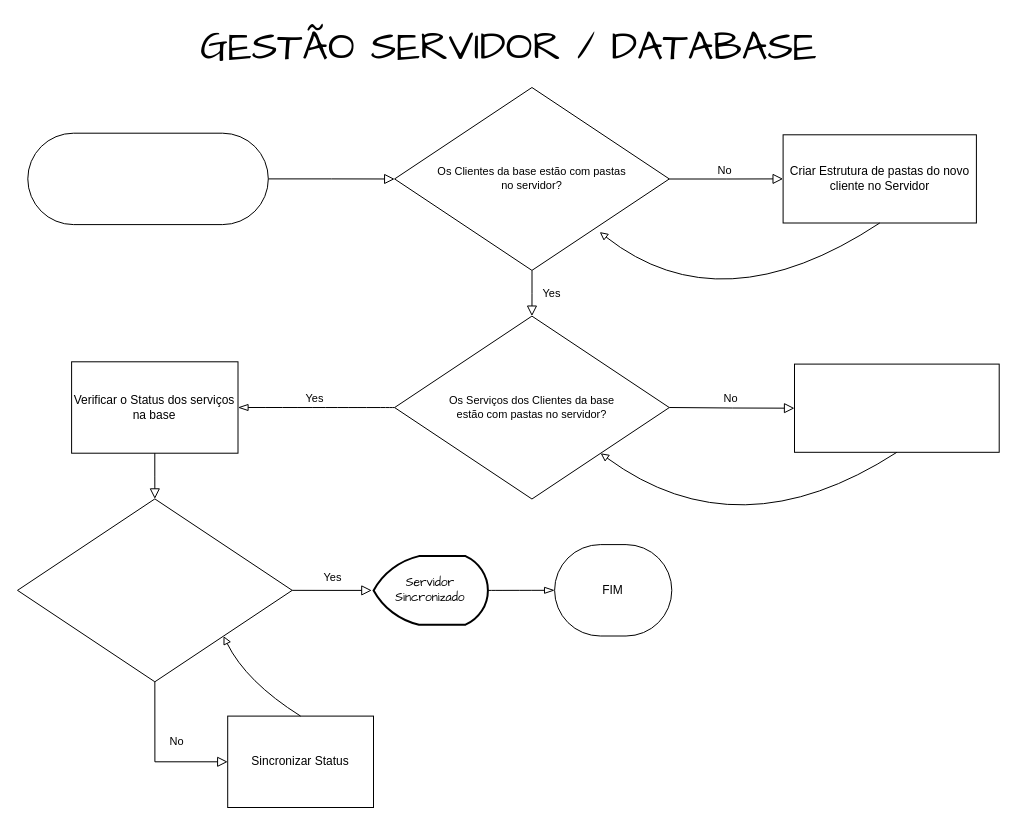
The diagram is 1035 pixels wide and 825 high, and some of its shapes have lost their labels. Here are the shapes that lost their labels. From the top down, the centre of each, then its label:
the point at 147,178: Sincronização Base/Servidor
the point at 896,407: Criar Estrutura de pastas do serviço no Servidor
the point at 154,590: Status da base igual ao Status do servidor?
